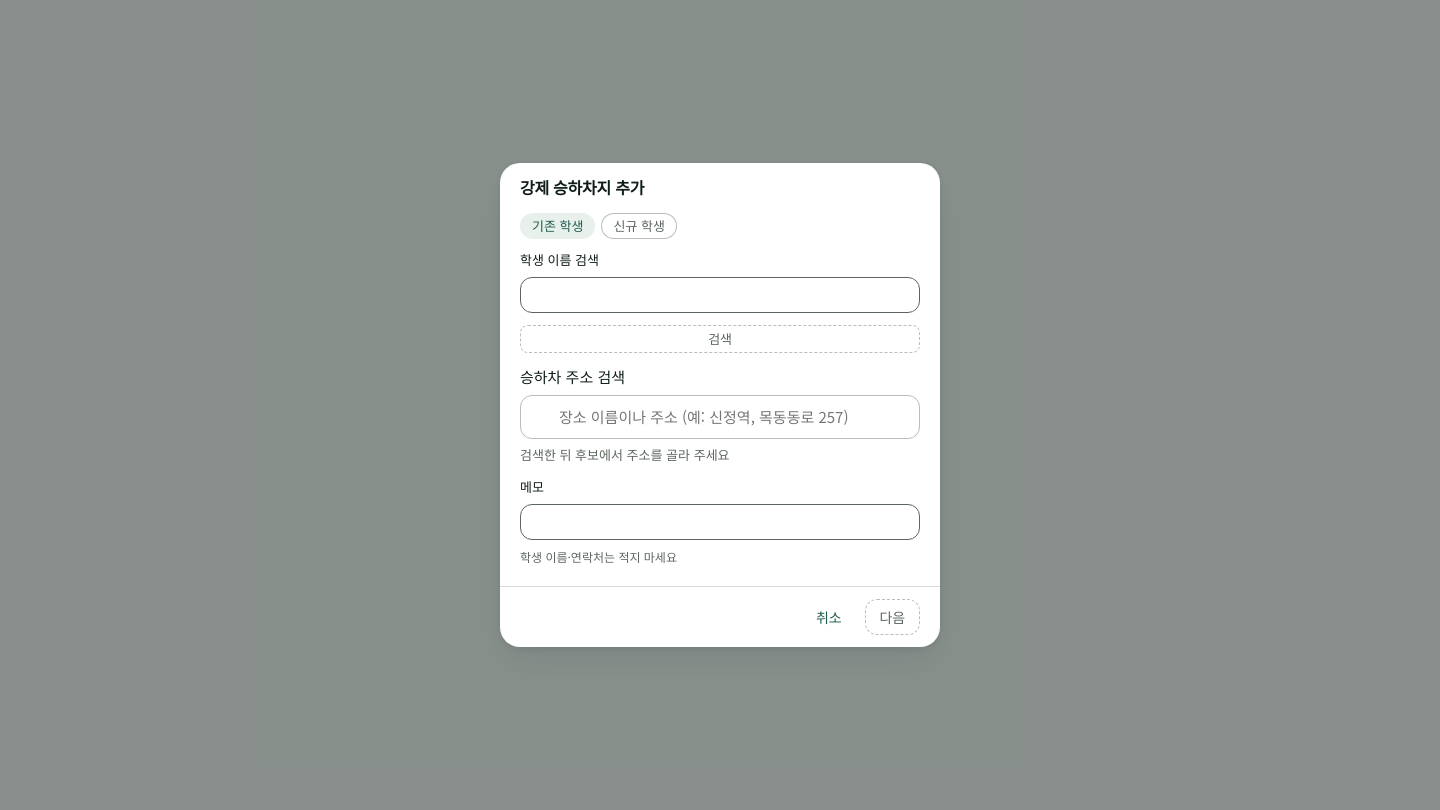
ForcedAddDialog — 배타 모드·확정 흐름 › 검색 결과가 없으면 없다고 알린다
Type "없는이름" into the field labelled "학생 이름 검색" at x=720, y=295, box [520,277,920,313]
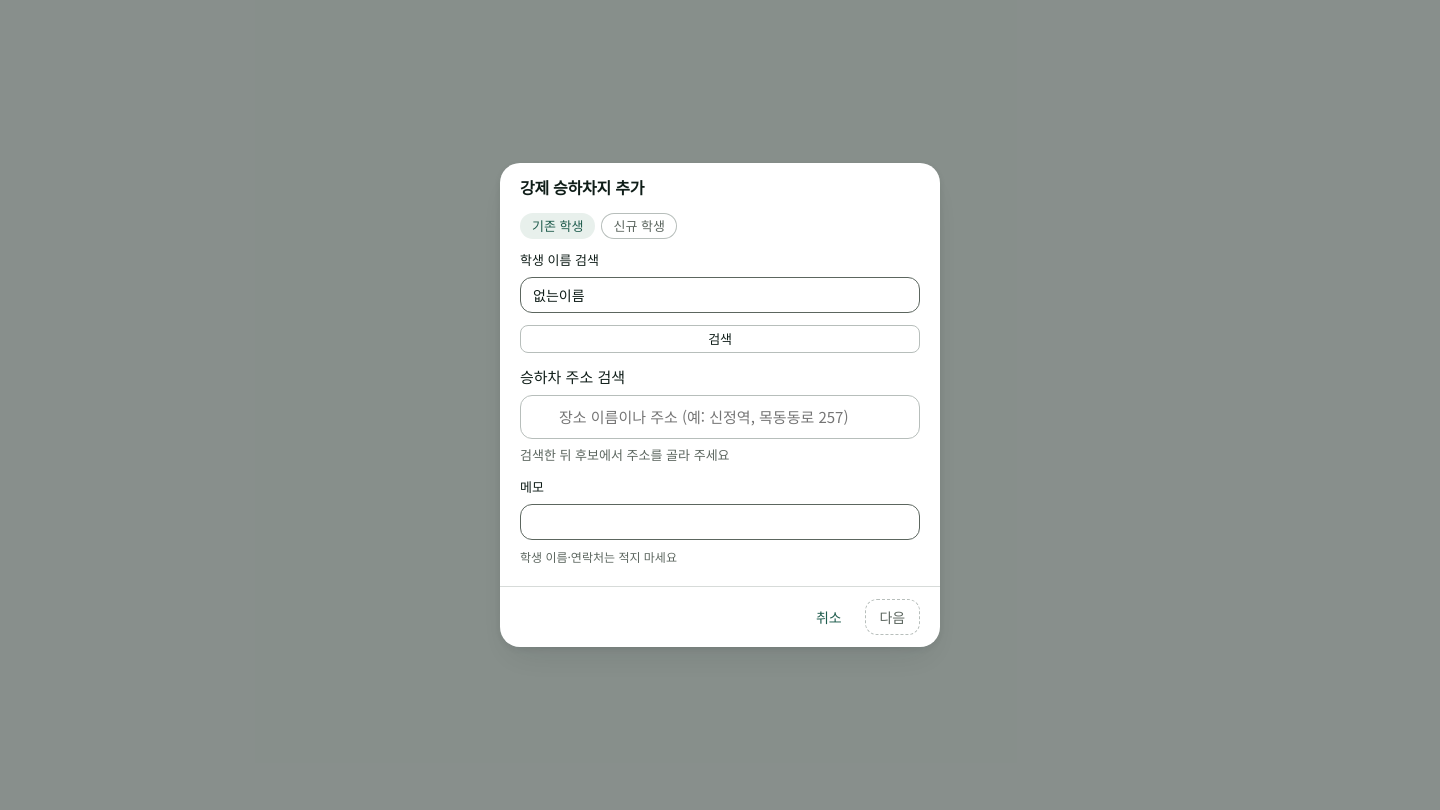
Click the button "검색" at x=720, y=339, box [520,325,920,353]
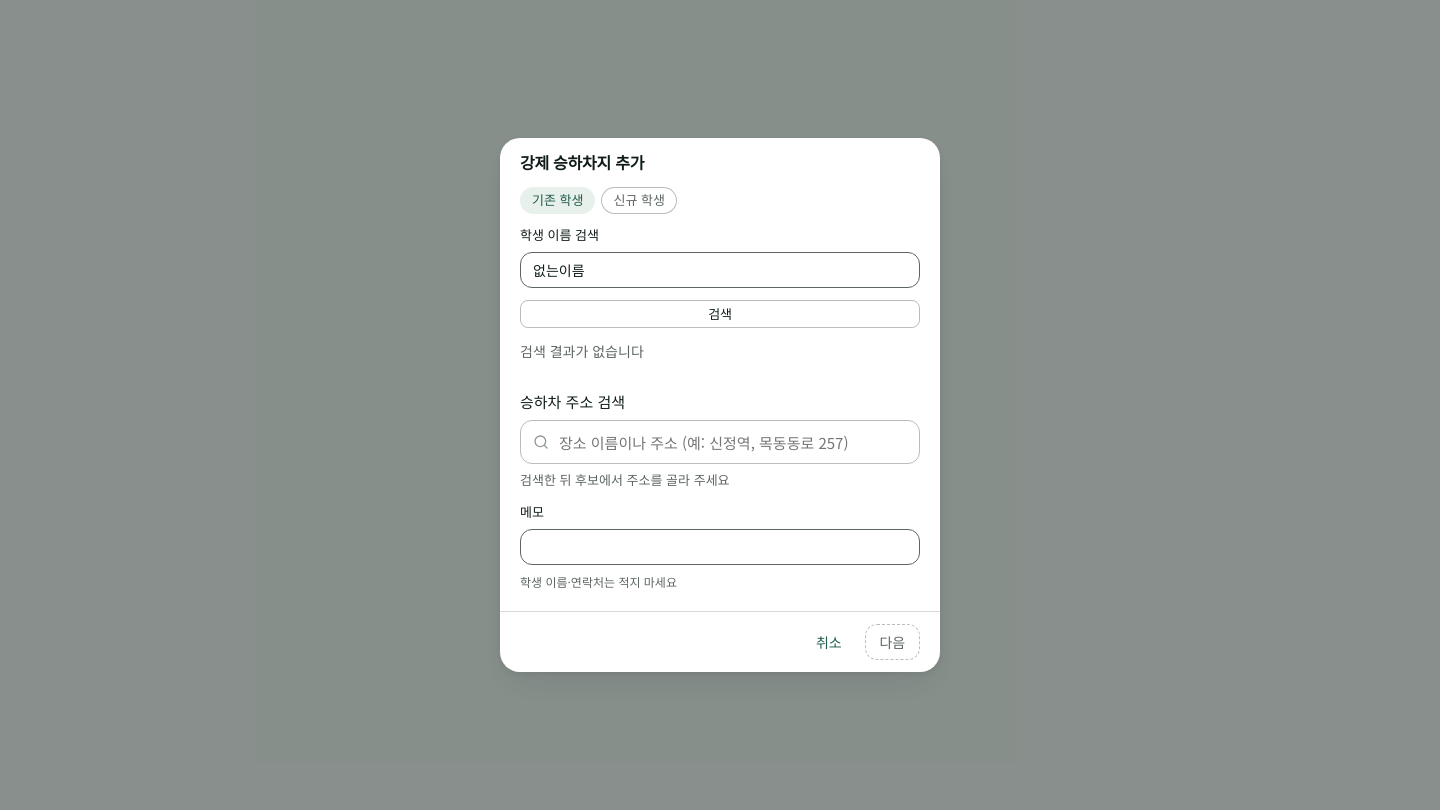
Now the text "검색 결과가 없습니다" is shown, box [520,341,644,361]
